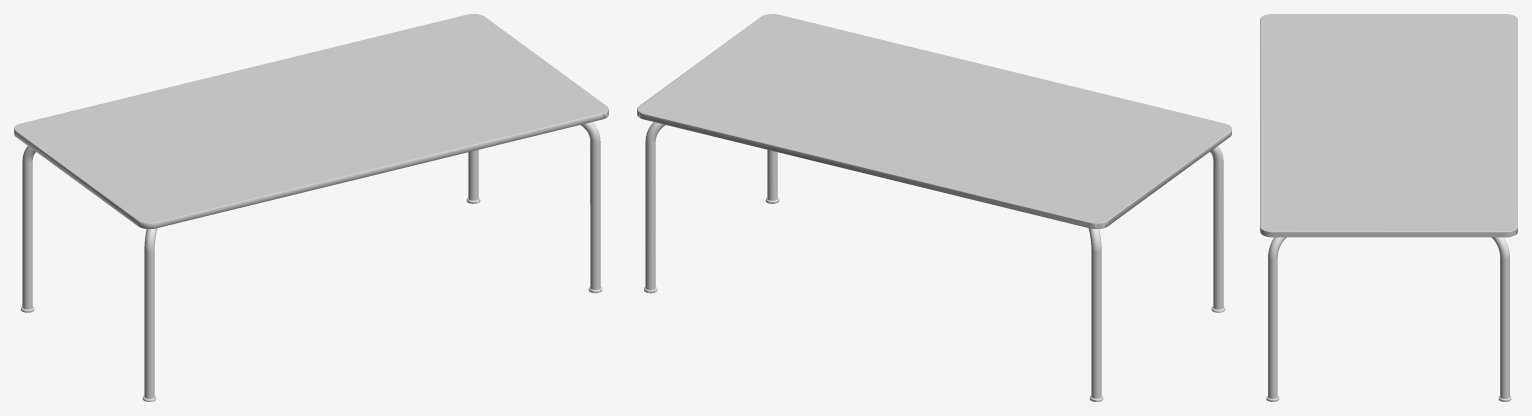
Rendered from vitra-scout-meet-9746206.optimized.glb.
3 renders of one model, left to right at view 1: azimuth 30°, elevation 25°; view 2: azimuth 150°, elevation 25°; view 3: azimuth 270°, elevation 25°, orthographic. The views are drawn at different scales.
Visible parts, largest first — view 1: SCOUT_MEET_TABLETOP, SCOUT_MEET_BEAMS; view 2: SCOUT_MEET_TABLETOP, SCOUT_MEET_BEAMS; view 3: SCOUT_MEET_TABLETOP, SCOUT_MEET_BEAMS.
Boxes of the visible parts, x1=… form: SCOUT_MEET_TABLETOP: x1=14, y1=14, x2=608, y2=229; SCOUT_MEET_BEAMS: x1=22, y1=122, x2=600, y2=398; SCOUT_MEET_TABLETOP: x1=637, y1=14, x2=1231, y2=229; SCOUT_MEET_BEAMS: x1=645, y1=122, x2=1223, y2=398; SCOUT_MEET_TABLETOP: x1=1260, y1=14, x2=1517, y2=237; SCOUT_MEET_BEAMS: x1=1268, y1=237, x2=1509, y2=398.
Bounding box in the file's own units: 2 × 0.7399 × 0.9998.
4 materials, 1 textured.
